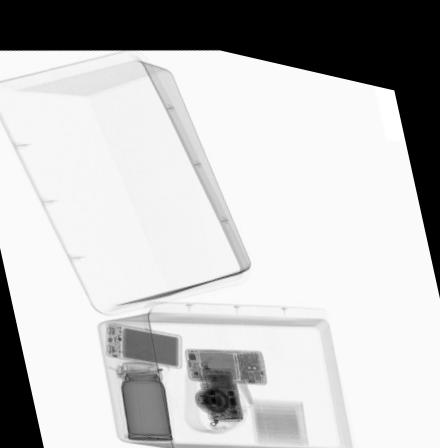Powerbank: (105, 314, 181, 360)
